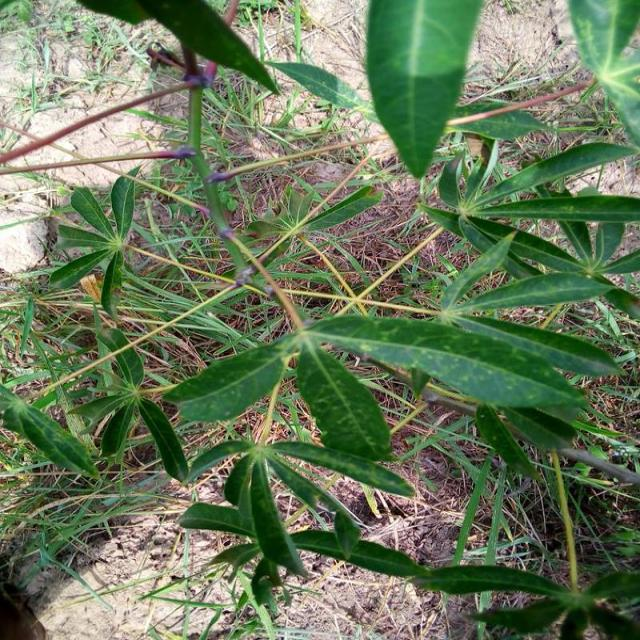cassava leaf: (365, 0, 487, 179)
